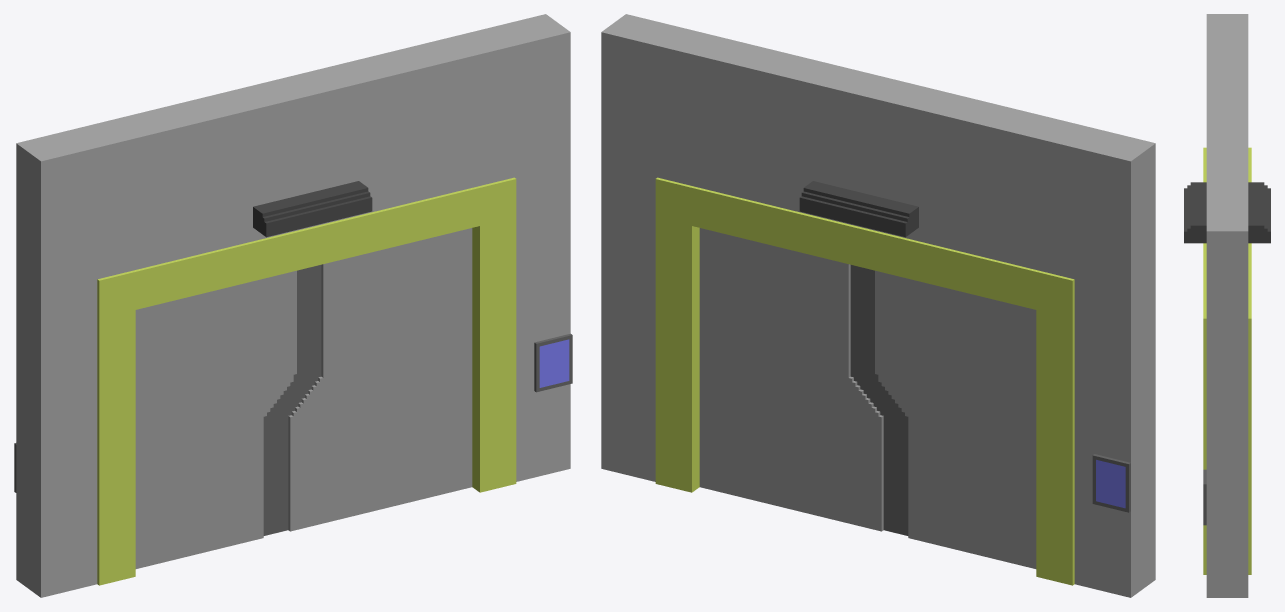
The model's file is Operating_room_Door2-1-1.fbx.
3 views of the same model, side by side, from view 1: azimuth 30°, elevation 25°; view 2: azimuth 150°, elevation 25°; view 3: azimuth 270°, elevation 25° (orthographic). The views are drawn at different scales.
Visible parts, largest first — view 1: Operating room Door2-1-1.003, Operating room Door2-1-1.009, Operating room Door2-1-1.002, Operating room Door2-1-1.001, Operating room Door2-1-1.010, Operating room Door2-1-1.011; view 2: Operating room Door2-1-1.003, Operating room Door2-1-1.009, Operating room Door2-1-1.002, Operating room Door2-1-1.001, Operating room Door2-1-1.010, Operating room Door2-1-1.008; view 3: Operating room Door2-1-1.010, Operating room Door2-1-1.003, Operating room Door2-1-1.001.
Part boxes in pixels (bbox=[...]): Operating room Door2-1-1.003: bbox=[73, 28, 516, 585]; Operating room Door2-1-1.009: bbox=[275, 228, 472, 533]; Operating room Door2-1-1.002: bbox=[135, 268, 308, 568]; Operating room Door2-1-1.001: bbox=[14, 129, 97, 597]; Operating room Door2-1-1.010: bbox=[490, 14, 572, 481]; Operating room Door2-1-1.011: bbox=[539, 339, 569, 387]; Operating room Door2-1-1.003: bbox=[655, 28, 1098, 585]; Operating room Door2-1-1.009: bbox=[699, 228, 896, 533]; Operating room Door2-1-1.002: bbox=[863, 268, 1036, 568]; Operating room Door2-1-1.001: bbox=[1074, 129, 1155, 597]; Operating room Door2-1-1.010: bbox=[601, 14, 681, 481]; Operating room Door2-1-1.008: bbox=[1096, 459, 1125, 508]; Operating room Door2-1-1.010: bbox=[1203, 208, 1248, 597]; Operating room Door2-1-1.003: bbox=[1184, 37, 1270, 574]; Operating room Door2-1-1.001: bbox=[1206, 14, 1248, 36].
Size of the model in its own units: 16 by 12.6 by 2.7.
